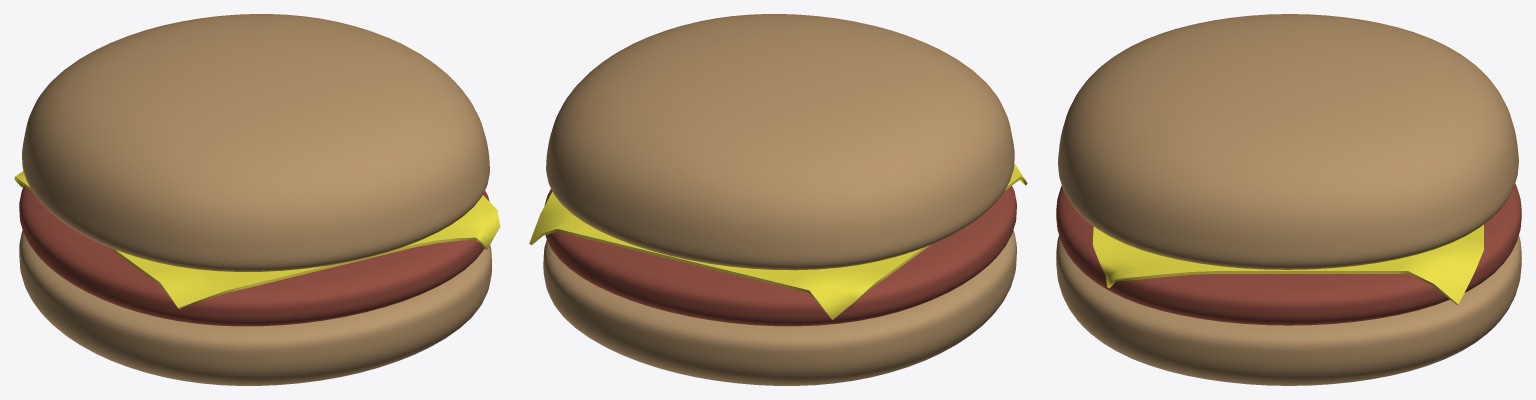
The model's file is hamburger.glb.
The picture shows the model from 3 angles, left to right: view 1: azimuth 30°, elevation 25°; view 2: azimuth 150°, elevation 25°; view 3: azimuth 270°, elevation 25°; orthographic projection.
Visible parts, largest first — view 1: Cube.003, Cube, Cube.002, Plane; view 2: Cube.003, Cube, Cube.002, Plane; view 3: Cube.003, Cube, Cube.002, Plane.
Boxes of the visible parts, box(x1,y1,x2,y2) form: Cube.003: box(22, 14, 489, 271); Cube: box(19, 230, 491, 385); Cube.002: box(19, 186, 489, 326); Plane: box(14, 171, 500, 308); Cube.003: box(546, 14, 1014, 270); Cube: box(543, 230, 1016, 385); Cube.002: box(544, 186, 1016, 326); Plane: box(529, 163, 1027, 319); Cube.003: box(1058, 14, 1518, 269); Cube: box(1056, 235, 1521, 385); Cube.002: box(1056, 184, 1521, 325); Plane: box(1092, 224, 1483, 304).
Size of the model in its own units: 11.98 by 7.24 by 11.98.
